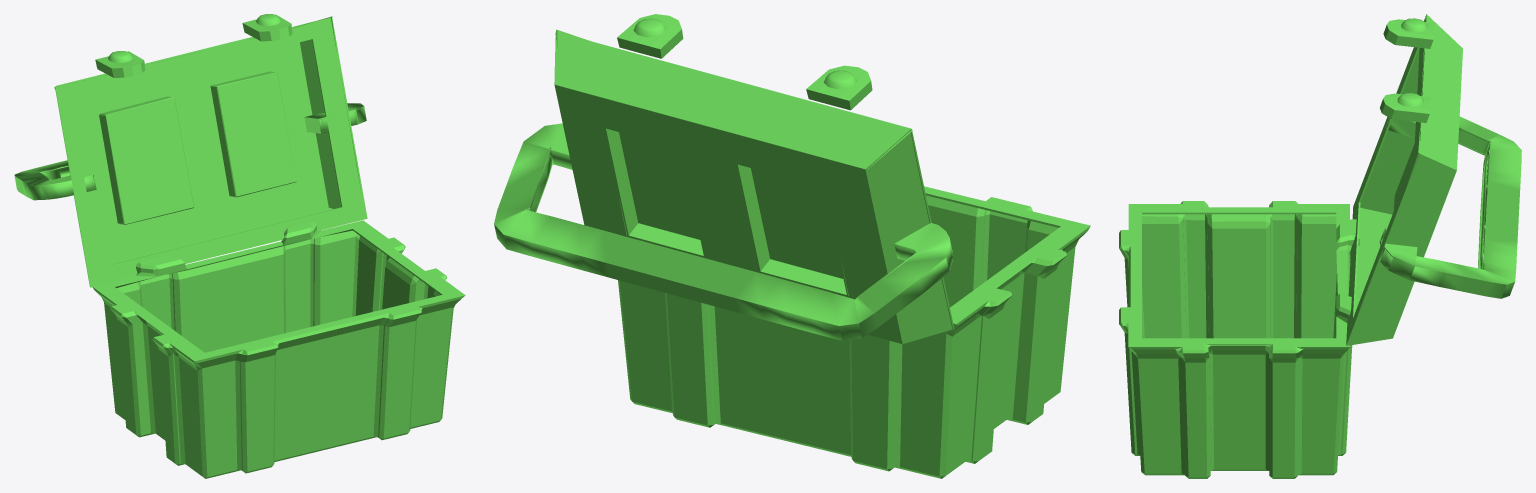
Rendered from Instriumental box.fbx.
3 views of the same model, side by side, from view 1: azimuth 30°, elevation 25°; view 2: azimuth 150°, elevation 25°; view 3: azimuth 270°, elevation 25° (orthographic). The views are drawn at different scales.
Visible parts, largest first — view 1: Cube.038, Cube.039, Cube.041, Sphere.017; view 2: Cube.039, Cube.038, Cube.041, Sphere.017; view 3: Cube.038, Cube.039, Cube.041, Sphere.017.
Part boxes in pixels (<box>): Cube.038: <box>92,220,465,478</box>; Cube.039: <box>14,16,367,287</box>; Cube.041: <box>95,14,292,77</box>; Sphere.017: <box>108,14,280,62</box>; Cube.039: <box>494,29,954,344</box>; Cube.038: <box>618,186,1090,478</box>; Cube.041: <box>617,14,872,110</box>; Sphere.017: <box>633,18,856,89</box>; Cube.038: <box>1119,201,1359,478</box>; Cube.039: <box>1346,14,1521,345</box>; Cube.041: <box>1380,19,1434,122</box>; Sphere.017: <box>1397,18,1427,106</box>.
Size of the model in its own units: 149 by 143 by 147.
